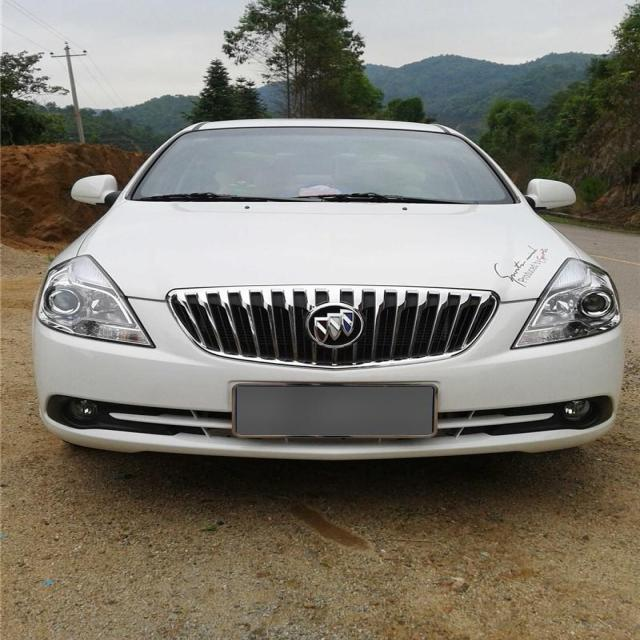front_bumper: (27, 314, 628, 464)
front_glass: (129, 125, 517, 202)
front_left_side_light: (509, 256, 622, 352)
front_left_side_mirror: (523, 173, 579, 217)
front_right_side_light: (31, 250, 156, 355)
front_right_side_mirror: (66, 169, 120, 207)
